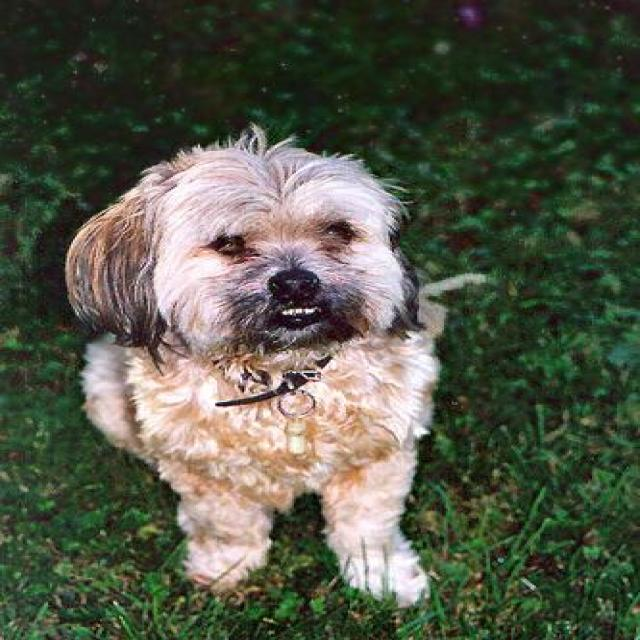shih_tzu: (60, 116, 440, 604)
